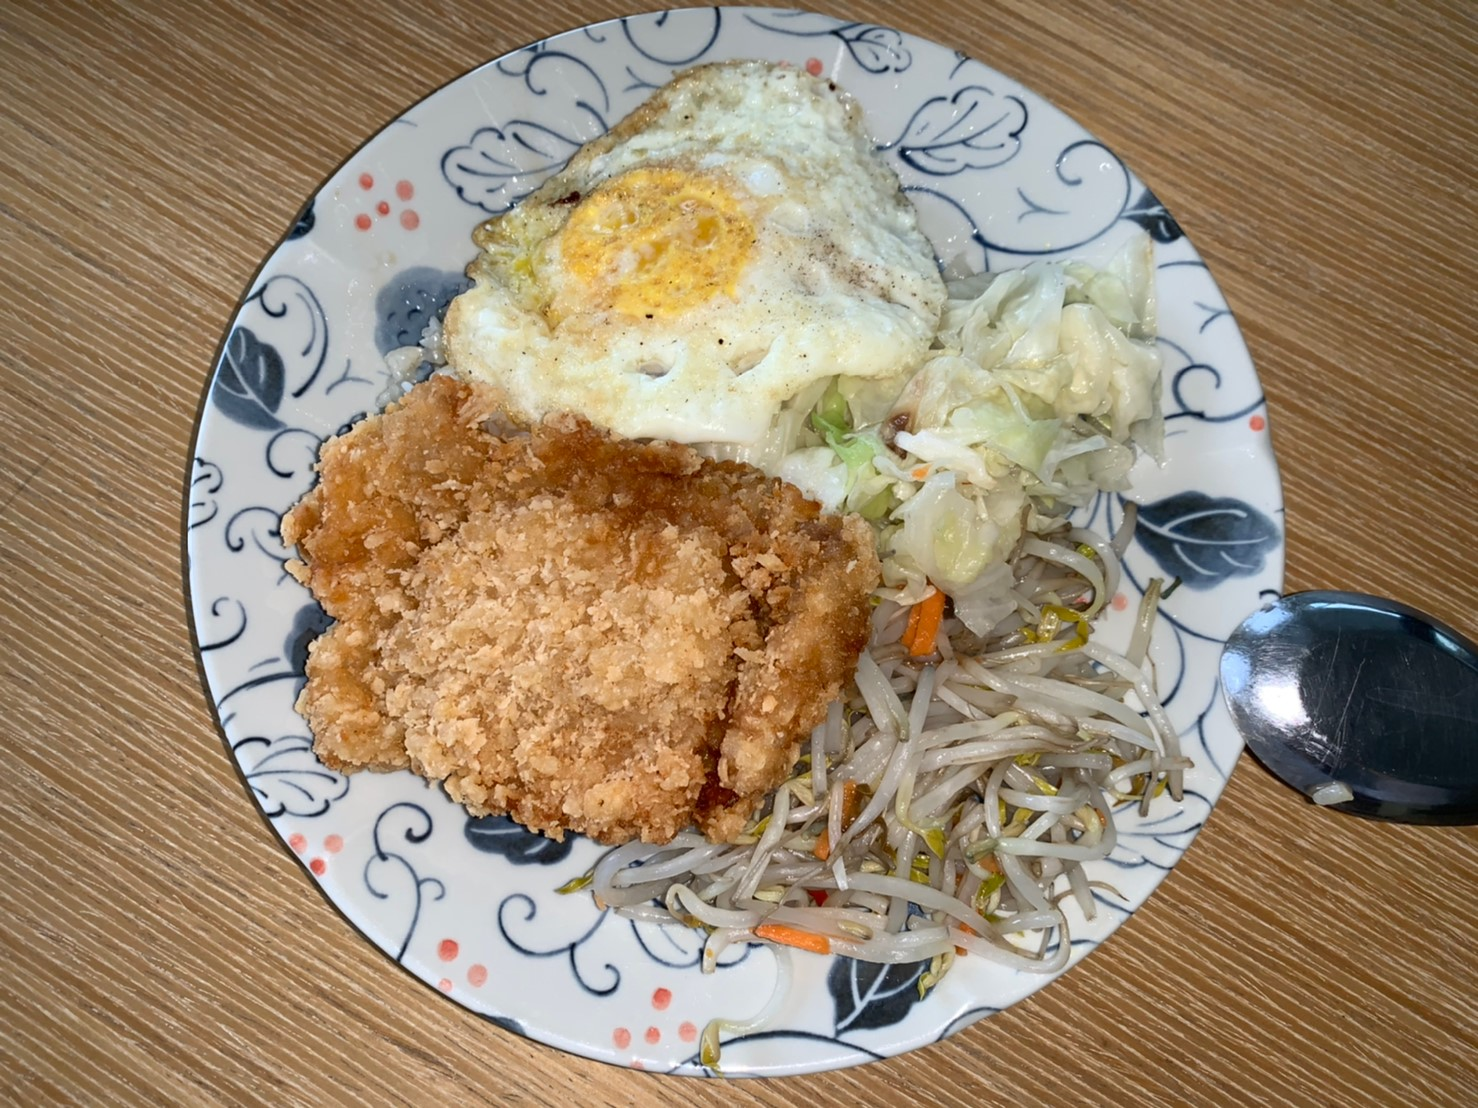chinese_cabbage: (898, 258, 1167, 512)
fried_chicken: (276, 372, 876, 847)
fried_eggs: (425, 55, 950, 461)
mung_bean_sprouts: (857, 591, 1145, 931)
